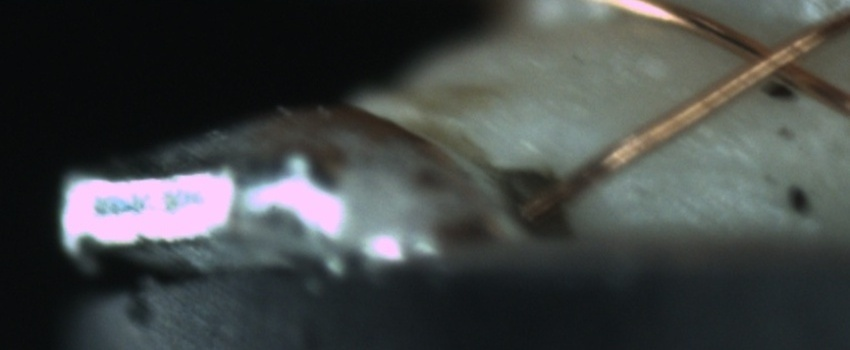CL: (721, 21, 817, 97)
DL: (627, 137, 776, 195)
